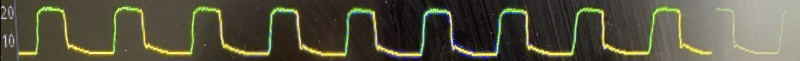normal_pressure: (16, 0, 717, 61)
